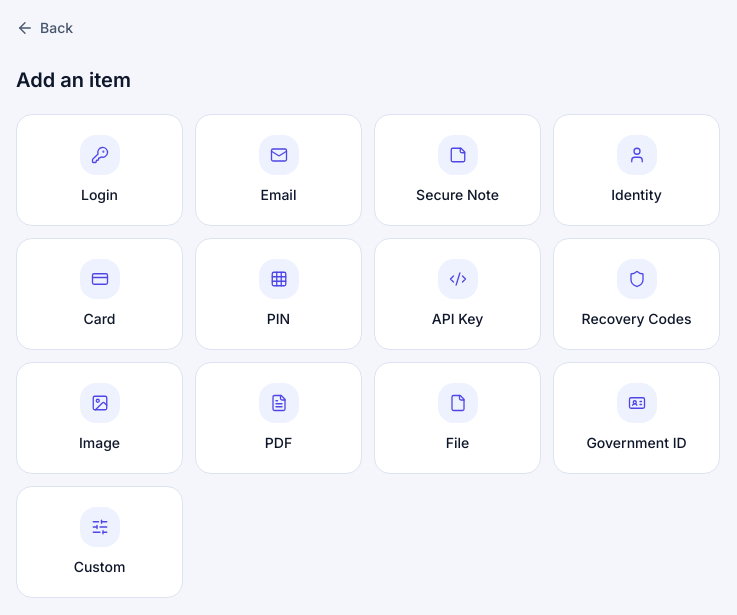
Test case: NewItemPage › Cancel from a manually-selected type (no ?type=) returns to the picker
Step 1. Click the button "Secure Note" → (458, 170), box [374,114,541,226]
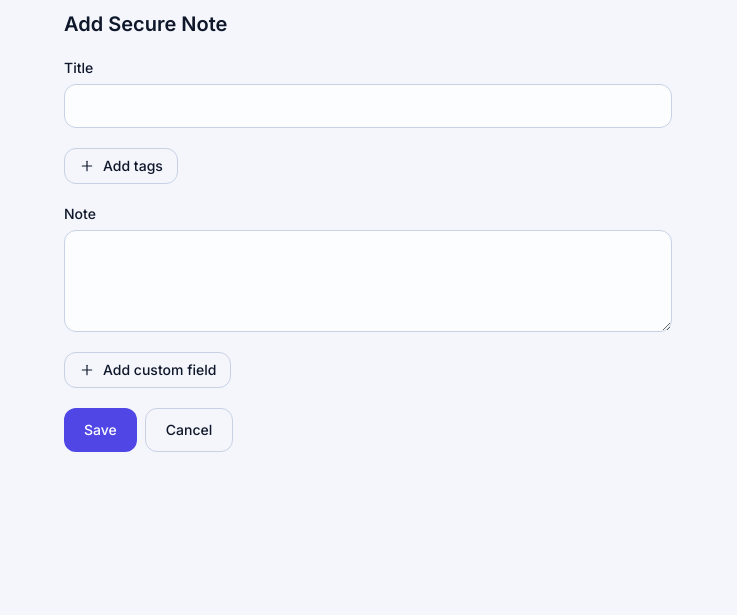
Check: the field labelled "Title" is shown, box [64,84,672,128]
Step 2. Click the button "Cancel" → (189, 430), box [145,408,233,452]
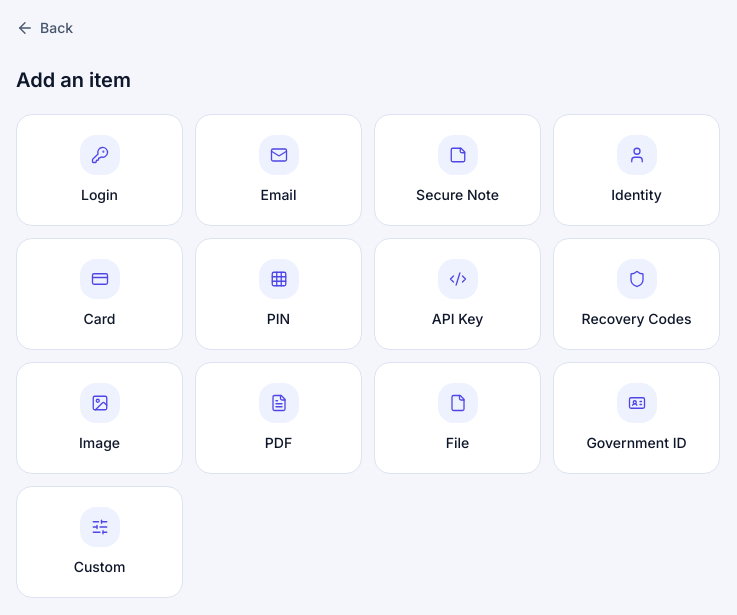
Check: the heading "Add an item" is shown, box [16,68,131,92]
